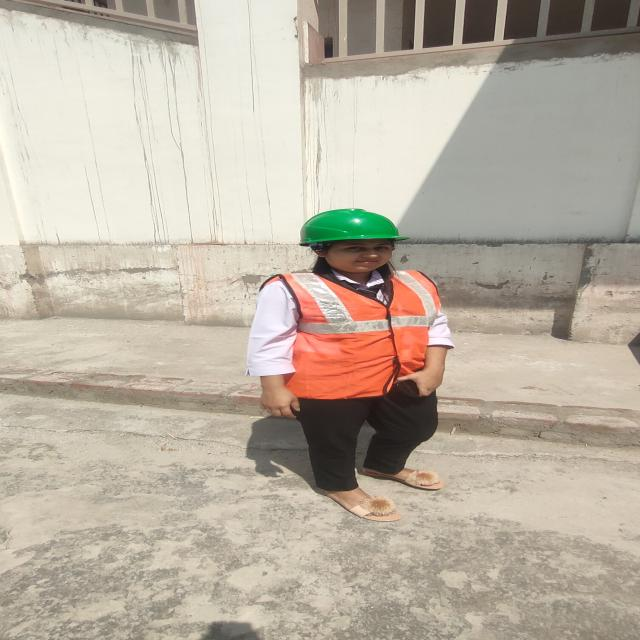safe: (248, 208, 450, 520)
